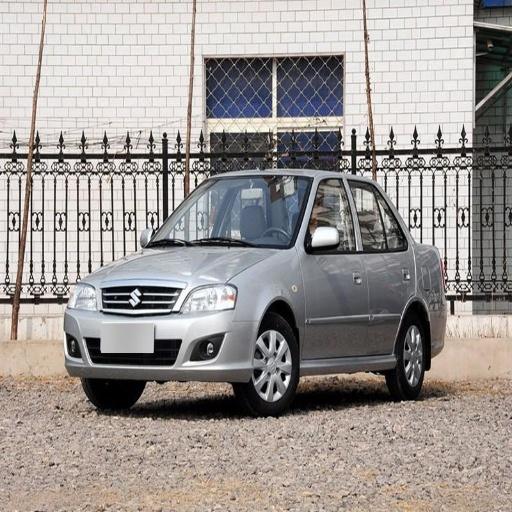front_bumper: (62, 284, 259, 381)
front_glass: (148, 180, 313, 246)
front_left_door: (303, 178, 366, 358)
trunk: (415, 261, 444, 324)
